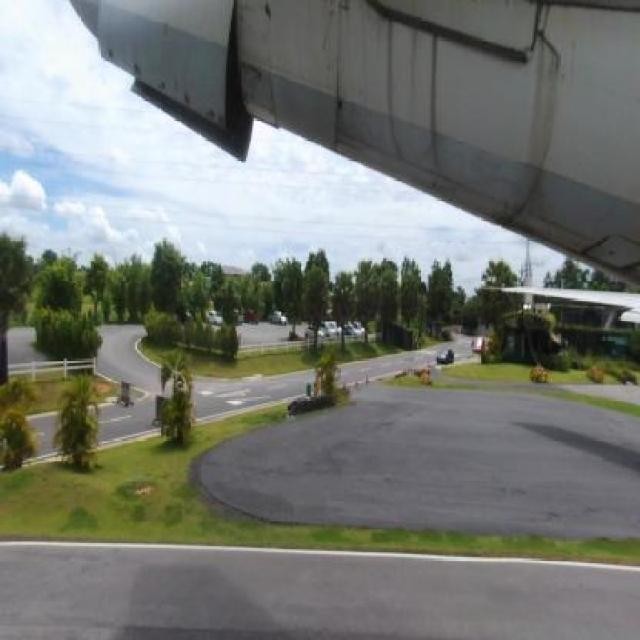Rust: (369, 9, 454, 166), (523, 15, 563, 224), (319, 1, 363, 153), (239, 51, 292, 132), (254, 1, 286, 34), (128, 55, 154, 91), (204, 97, 227, 134), (102, 40, 125, 66), (153, 72, 170, 98), (178, 85, 196, 109)
Scartch: (323, 18, 342, 87)
